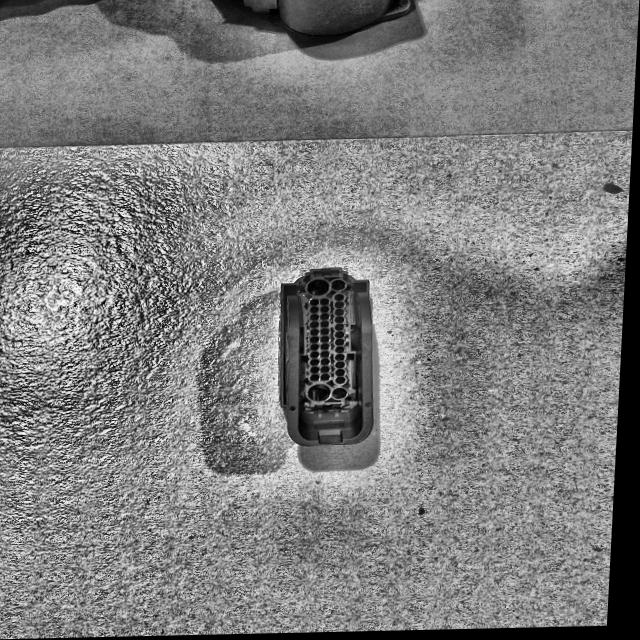P38: (283, 270, 378, 448)
